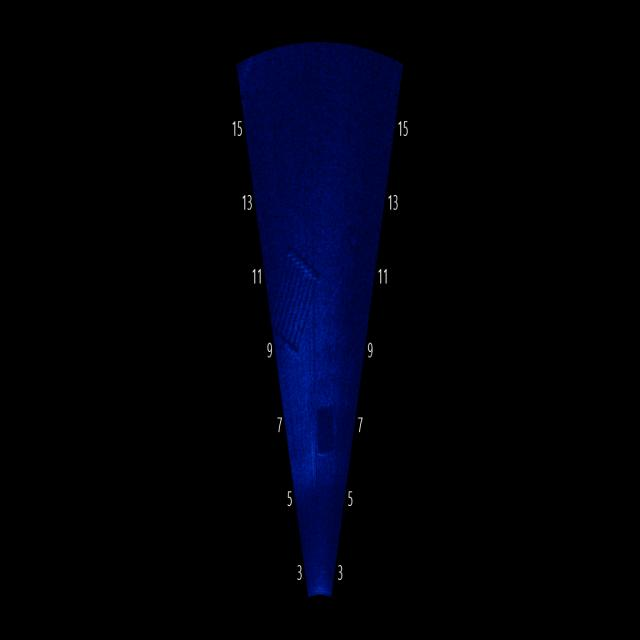square: (266, 241, 326, 362), (311, 383, 338, 479)
